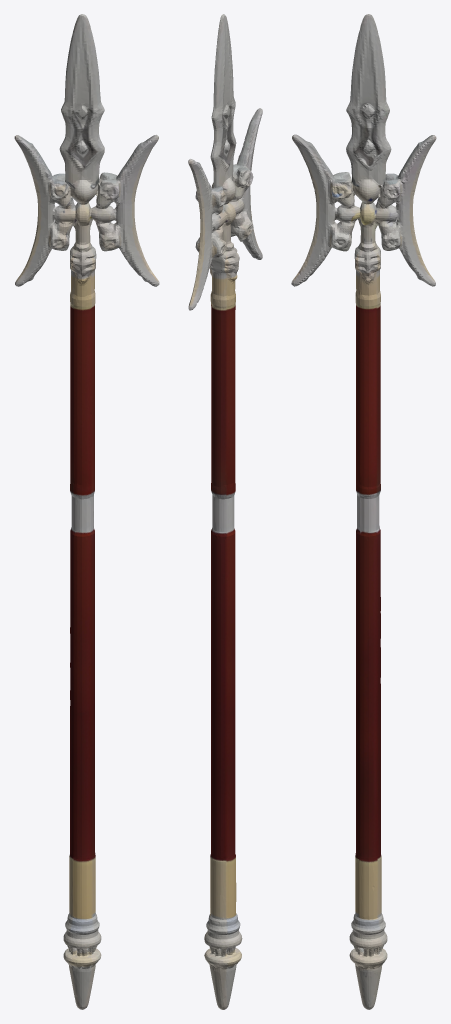
Rendered from fantasy+halberd+3d+model.glb.
3 views of the same model, side by side, from view 1: azimuth 90°, elevation 25°; view 2: azimuth 150°, elevation 25°; view 3: azimuth 270°, elevation 25° (orthographic).
Visible parts, largest first — view 1: tripo_node_cb9d086a-fd4b-449c-8418-11ca62150556; view 2: tripo_node_cb9d086a-fd4b-449c-8418-11ca62150556; view 3: tripo_node_cb9d086a-fd4b-449c-8418-11ca62150556.
Boxes of the visible parts, <box> form: tripo_node_cb9d086a-fd4b-449c-8418-11ca62150556: <box>14,14,159,1009</box>; tripo_node_cb9d086a-fd4b-449c-8418-11ca62150556: <box>188,14,262,1009</box>; tripo_node_cb9d086a-fd4b-449c-8418-11ca62150556: <box>291,14,436,1009</box>.
Bounding box in the file's own units: 0.0347 × 1 × 0.132.
1 material, 1 textured.
